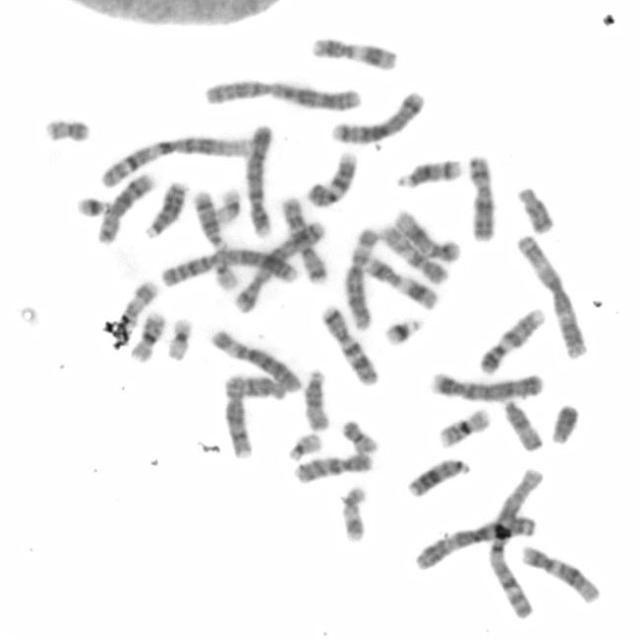A1: (98, 133, 256, 192), (486, 465, 546, 620)
A2: (161, 246, 301, 291), (198, 78, 364, 115)
A3: (514, 232, 591, 362), (413, 513, 536, 572)
B4: (428, 370, 544, 404), (242, 124, 274, 238)
B5: (233, 220, 327, 312), (329, 89, 428, 145)
C10: (378, 220, 449, 288), (293, 451, 375, 485)
C11: (363, 257, 439, 311), (307, 37, 399, 72)
C12: (519, 545, 603, 605), (393, 209, 462, 264)
C6: (208, 329, 303, 393), (343, 225, 378, 332)
C7: (320, 304, 380, 388), (276, 194, 328, 284)
C8: (96, 169, 156, 246), (223, 376, 256, 462)
C9: (476, 305, 546, 376), (304, 151, 358, 210)
D13: (143, 179, 190, 240), (408, 456, 472, 499)
D14: (393, 156, 466, 192), (193, 188, 229, 252)
D15: (500, 398, 544, 453), (303, 369, 332, 434)
E16: (436, 406, 492, 451), (129, 308, 167, 365)
E17: (118, 278, 156, 331), (338, 484, 369, 545)
E18: (514, 185, 560, 236), (223, 372, 288, 401)
F19: (165, 314, 196, 363), (210, 186, 242, 226)
F20: (341, 418, 379, 457), (44, 117, 94, 145)
G21: (382, 318, 423, 347), (77, 195, 113, 220)
G22: (287, 432, 324, 463), (211, 256, 241, 291)
X: (466, 152, 494, 244)
Y: (551, 403, 579, 445)
